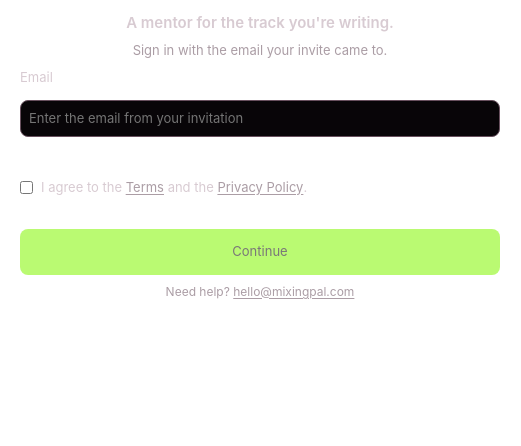
Scenario: words sign-in for invite sign-up
Expected: the text "Sign in with the email your invite came to." is shown, x1=133 y1=42 x2=387 y2=58
Type "producer@example.com" into the field labelled "Email" at (260, 119), box x1=20 y1=100 x2=500 y2=137
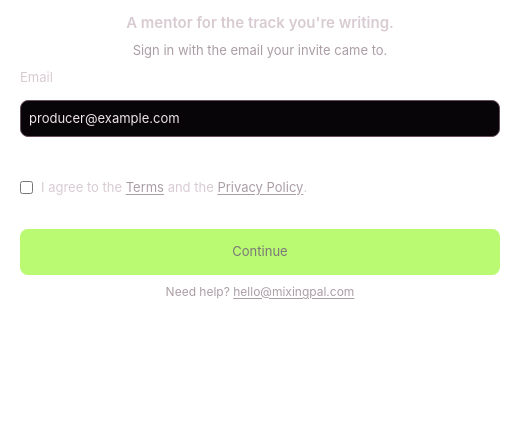
Click the checkbox labelled "I agree to the Terms and the Privacy Policy ." at (26, 187), box x1=20 y1=181 x2=33 y2=194
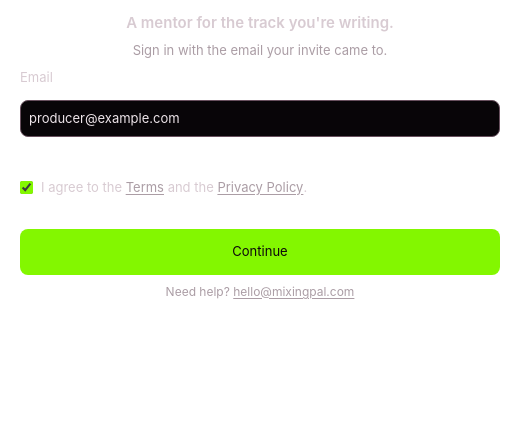
Click the button "Continue" at (260, 252), box x1=20 y1=229 x2=500 y2=275
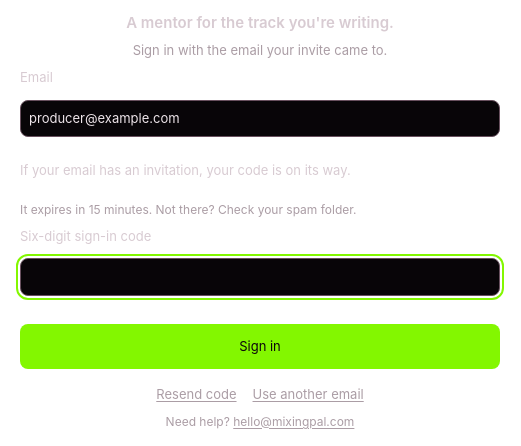
Expected: the text "If your email has an invitation, your code is on its way." is shown, x1=20 y1=162 x2=351 y2=178
